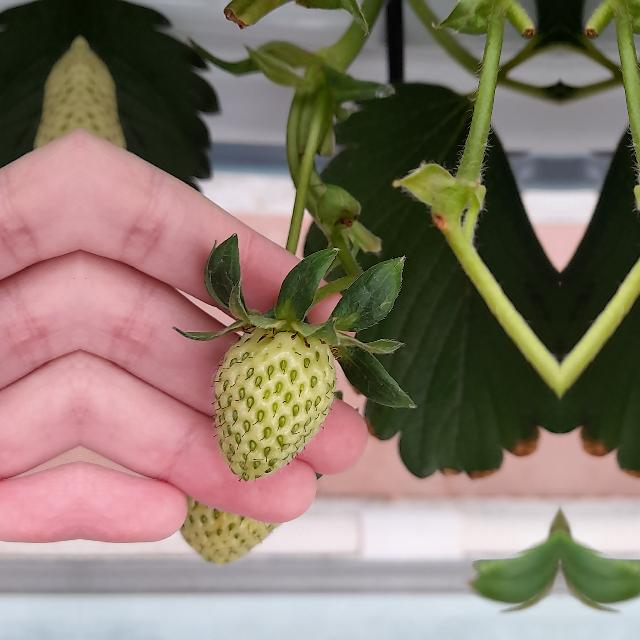Health_25: (214, 327, 336, 481)
